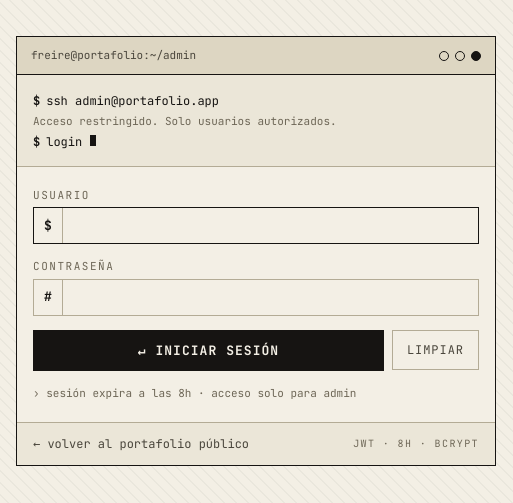
LoginPage › el botón Limpiar resetea los campos y el error
Click the button "↵ Iniciar sesión" at point(208, 350), box x1=33 y1=330 x2=384 y2=371
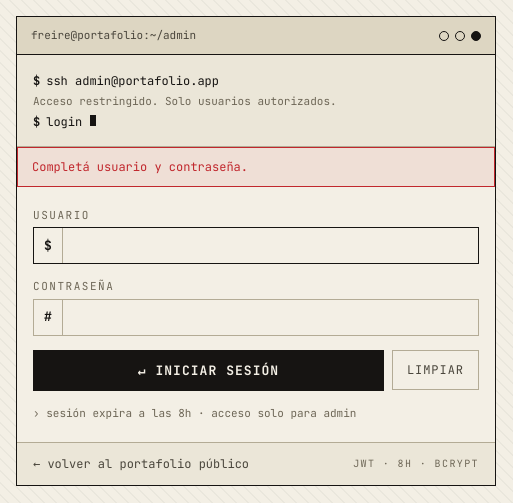
Expected: the message "Completá usuario y contraseña." is shown, x1=17 y1=147 x2=495 y2=187
Click the button "Limpiar" at point(435, 370), box x1=392 y1=350 x2=479 y2=390
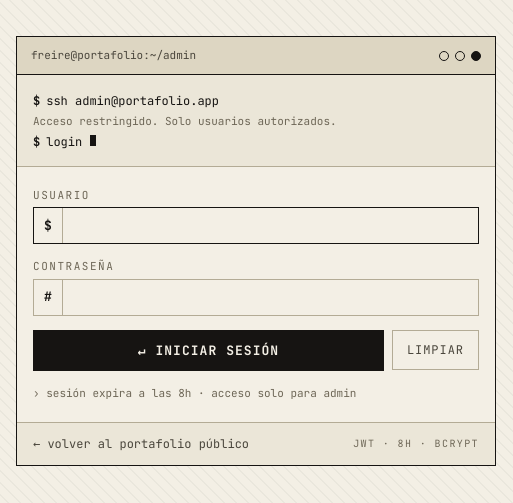
Expected: the message "Completá usuario y contraseña." is gone
